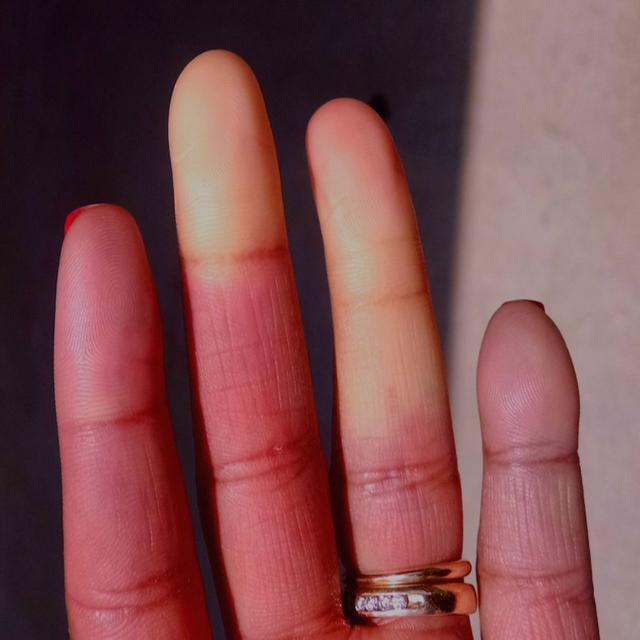raynauds: (299, 95, 466, 433), (152, 59, 310, 386)
